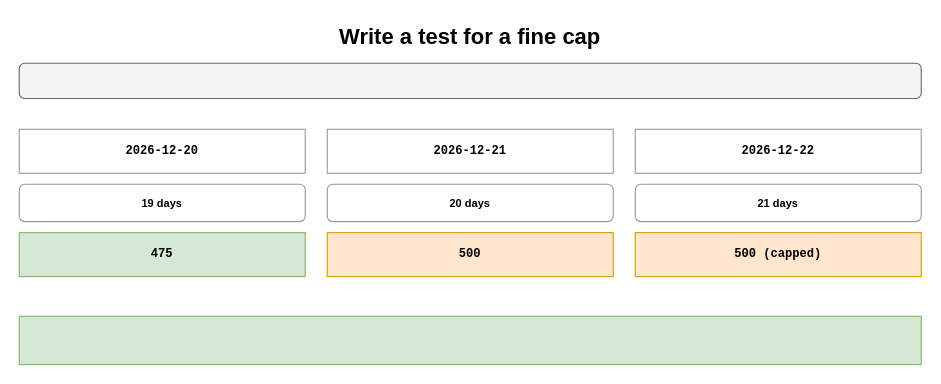
Image size: 941x384. Some labels were removed from this diagram. Here are the shapes that lost their labels. From the top down, the centre of each, then its label:
At (x=469, y=80): "Test rows on each side of the 500-cent cap; due 2026-12-01".
At (x=469, y=340): "return Math.min(500, Math.max(0, daysLate) * 25);".
